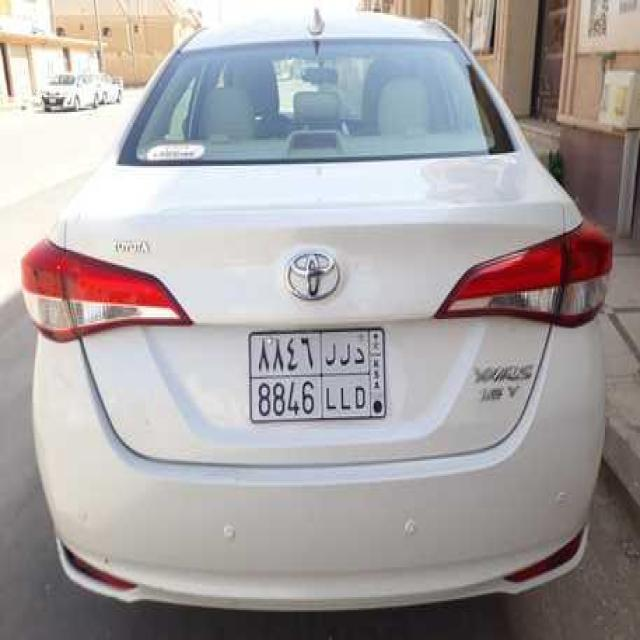license_plate: (235, 314, 392, 438)
